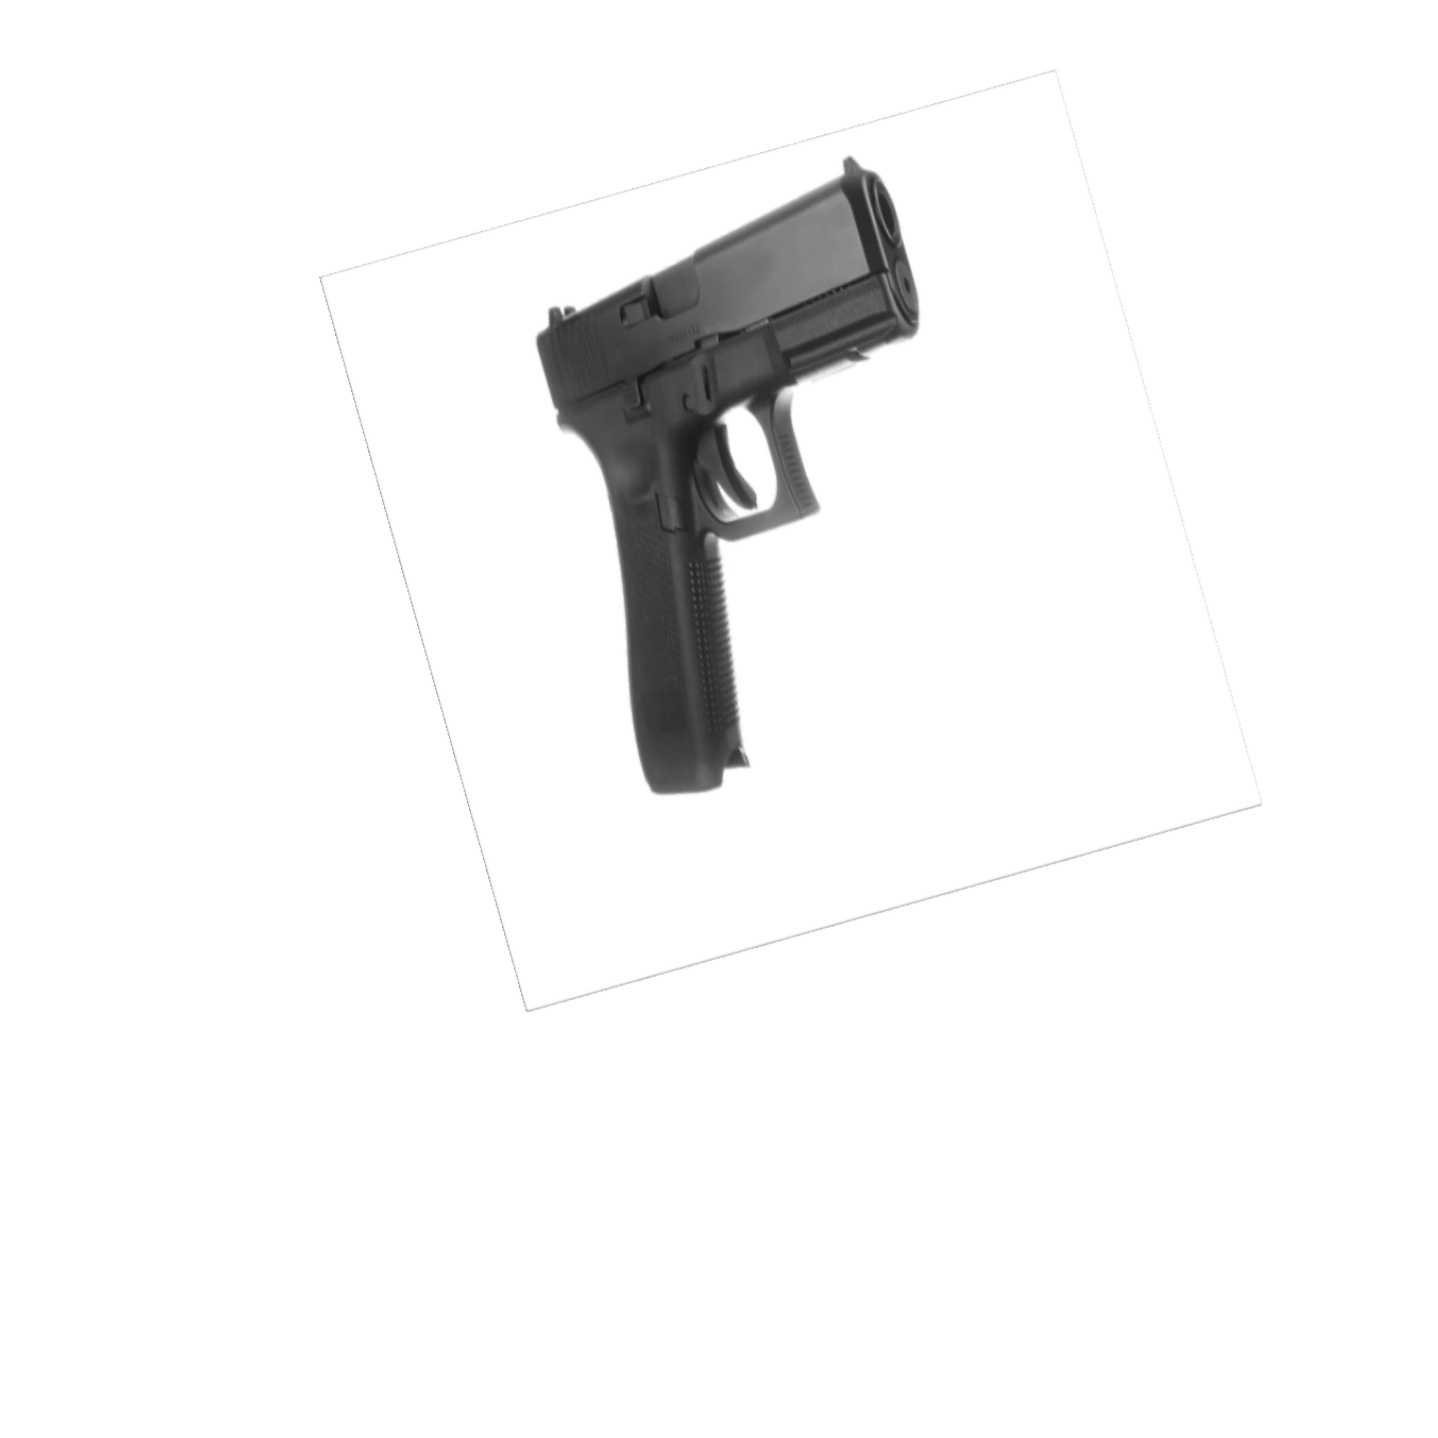gun: (525, 151, 943, 797)
